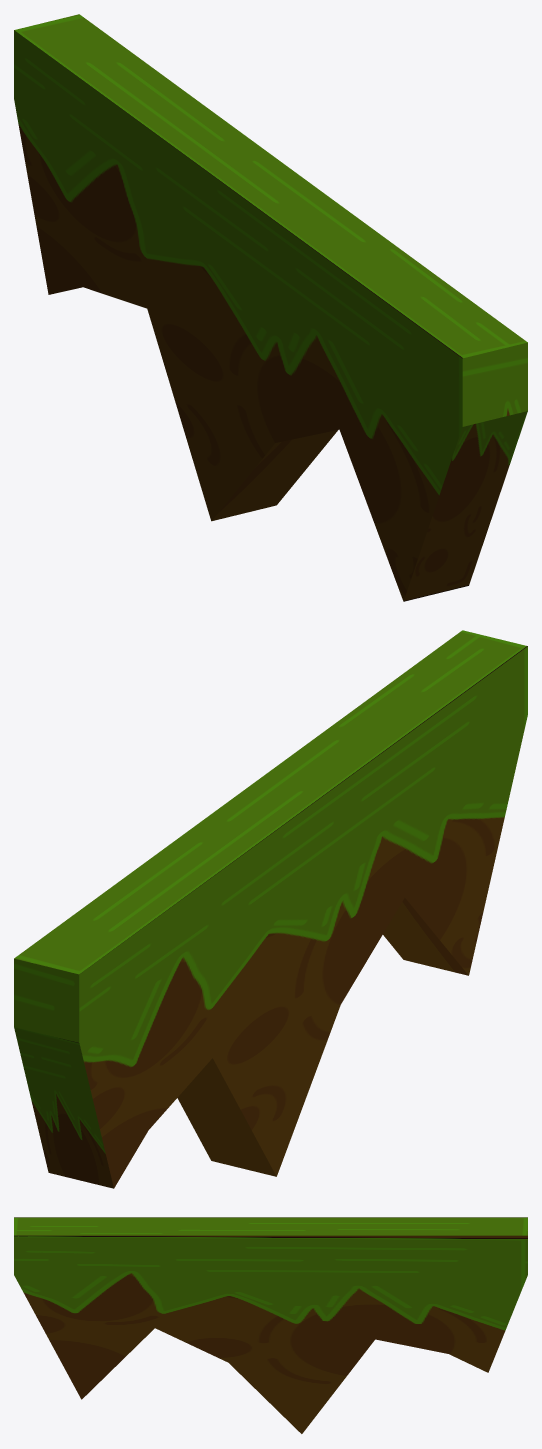
The model's file is test area.fbx.
3 views of the same model, one above another, from view 1: azimuth 30°, elevation 25°; view 2: azimuth 150°, elevation 25°; view 3: azimuth 270°, elevation 25° (orthographic). The views are drawn at different scales.
Parts seen in each view (by area): view 1: Cube; view 2: Cube; view 3: Cube.
Part boxes in pixels (x1,y1,x2,y2): Cube: [14, 14, 527, 601]; Cube: [14, 630, 527, 1188]; Cube: [14, 1217, 527, 1433].
Bounding box in the file's own units: 200 × 1013 × 2374.
